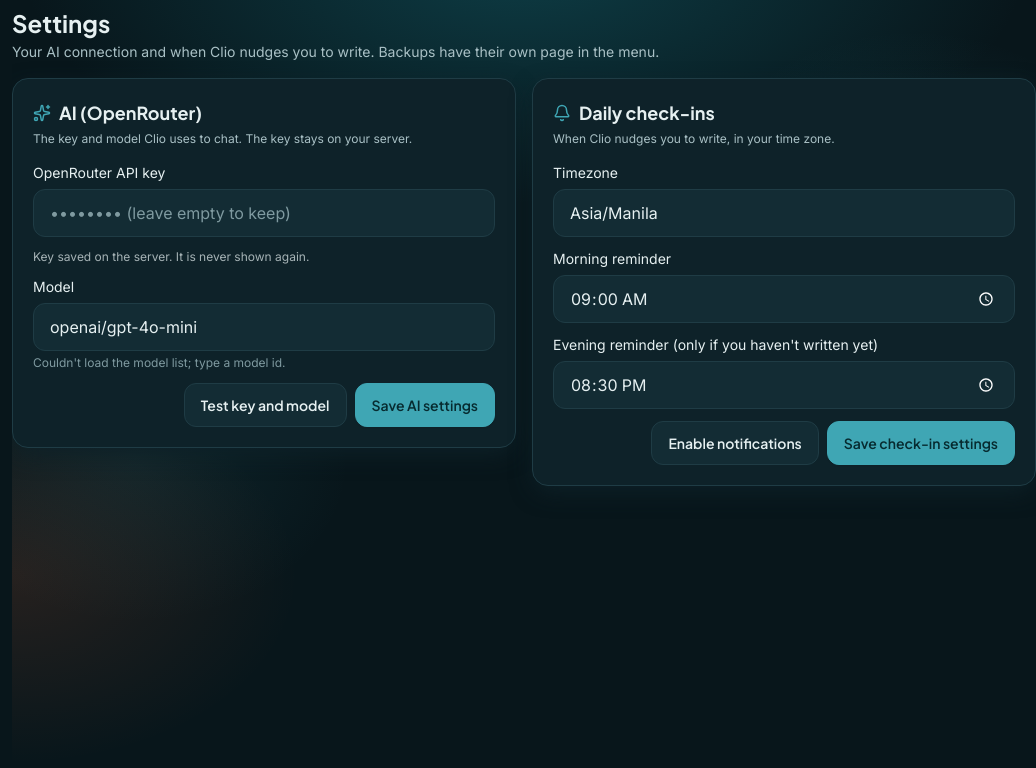
Test: SettingsPage › shows that a key is saved without ever showing the key, and reports a failed key test
The image size is (1036, 768).
Expected: the text "Key saved on the server. It is never shown again." is shown, x1=33 y1=249 x2=309 y2=264
Expected: the password field labelled "OpenRouter API key" is empty, x1=33 y1=189 x2=495 y2=237
Click the button "Test key and model": (265, 405) x1=184 y1=383 x2=346 y2=427
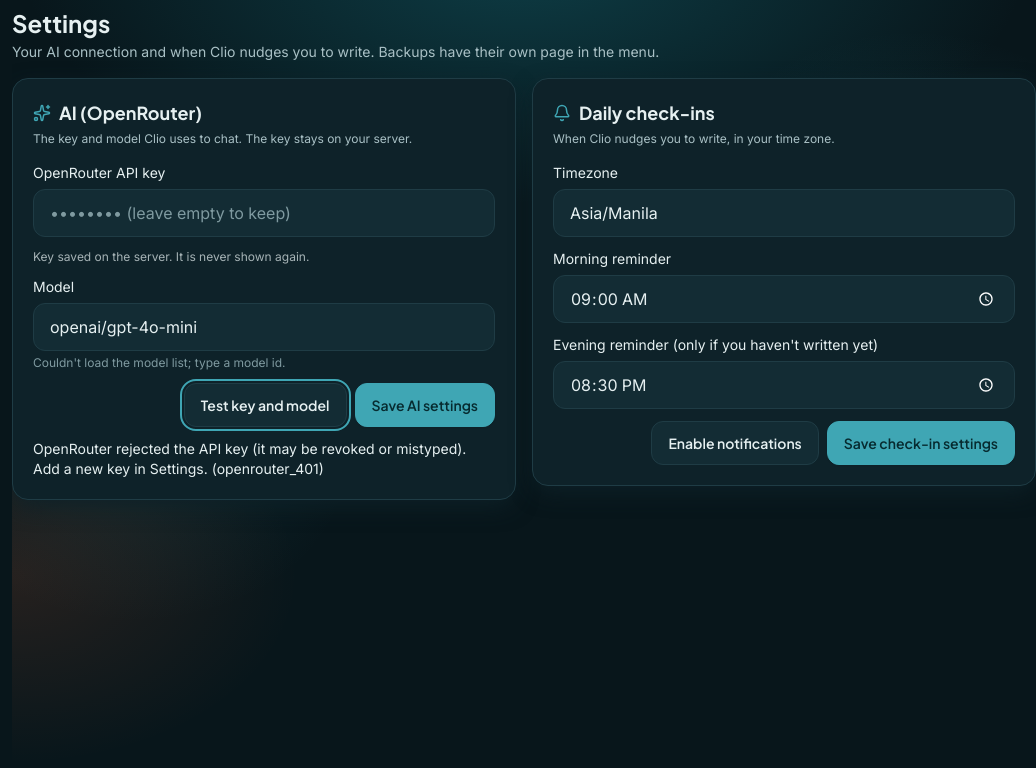
Now the text "openrouter_401" is shown, box x1=33 y1=440 x2=466 y2=477
